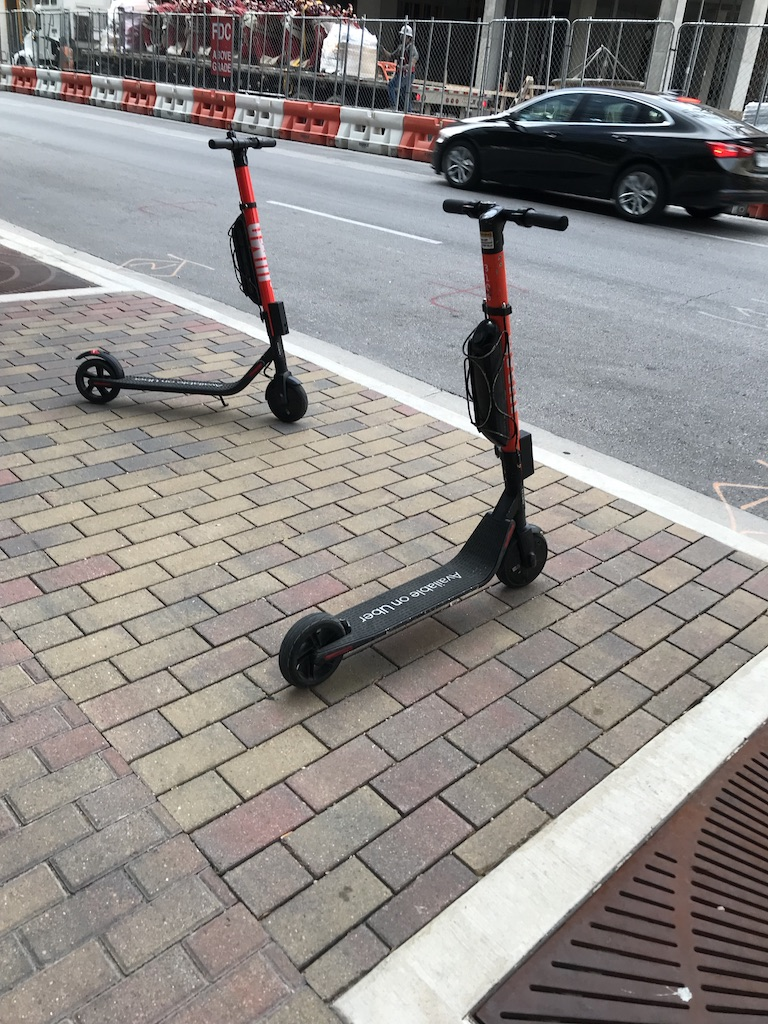scooter: (277, 198, 569, 693), (71, 136, 307, 426)
